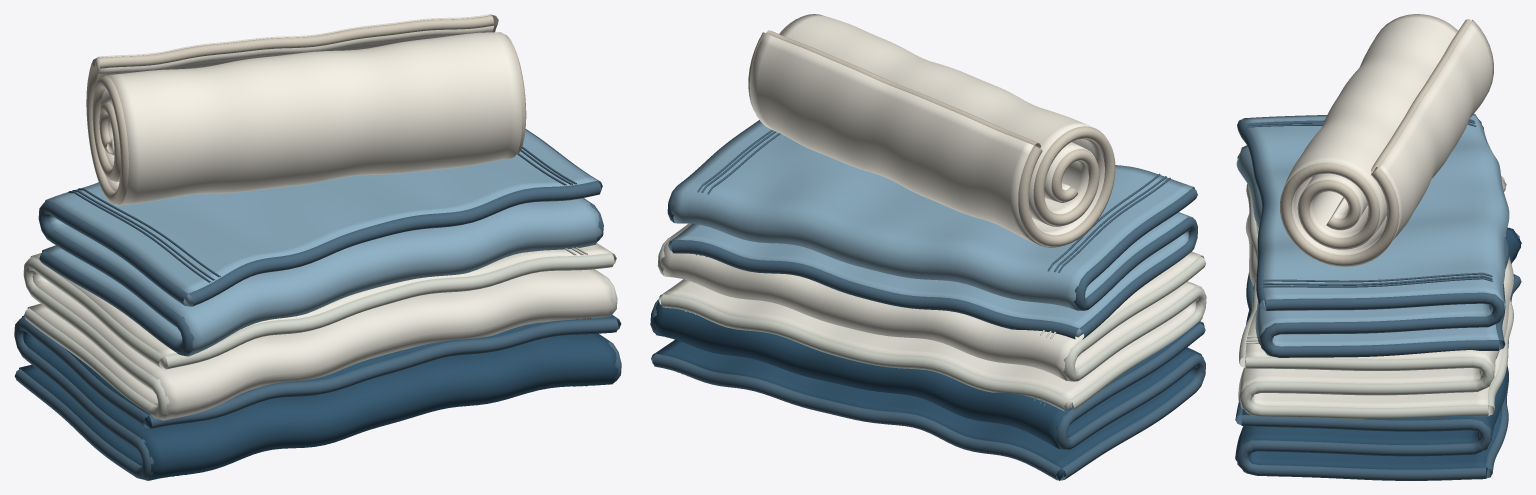
The model's file is towels.glb.
The picture shows the model from 3 angles, left to right: view 1: azimuth 30°, elevation 25°; view 2: azimuth 150°, elevation 25°; view 3: azimuth 270°, elevation 25°; orthographic projection. The views are drawn at different scales.
Parts seen in each view (by area): view 1: Ivory face towel, Blue-grey bath terry, Pearl bath terry, Midnight bath terry, Woven navy hem, Woven pearl hem, Cream spiral edge; view 2: Blue-grey bath terry, Ivory face towel, Pearl bath terry, Woven navy hem, Midnight bath terry, Woven pearl hem, Cream spiral edge; view 3: Blue-grey bath terry, Ivory face towel, Woven navy hem, Woven pearl hem, Pearl bath terry, Midnight bath terry, Cream spiral edge.
Boxes of the visible parts, box(x1,y1,x2,y2) form: Ivory face towel: box(94, 14, 522, 205); Blue-grey bath terry: box(44, 130, 601, 356); Pearl bath terry: box(29, 243, 614, 420); Midnight bath terry: box(20, 315, 618, 480); Woven navy hem: box(14, 129, 621, 480); Woven pearl hem: box(23, 243, 617, 419); Cream spiral edge: box(86, 14, 526, 204); Blue-grey bath terry: box(671, 121, 1193, 337); Ivory face towel: box(749, 14, 1108, 247); Pearl bath terry: box(660, 223, 1201, 409); Woven navy hem: box(650, 120, 1205, 480); Midnight bath terry: box(652, 302, 1201, 480); Woven pearl hem: box(657, 223, 1206, 411); Cream spiral edge: box(748, 17, 1115, 246); Blue-grey bath terry: box(1236, 114, 1509, 355); Ivory face towel: box(1280, 14, 1493, 266); Woven navy hem: box(1235, 119, 1521, 480); Woven pearl hem: box(1239, 175, 1513, 419); Pearl bath terry: box(1238, 177, 1513, 414); Midnight bath terry: box(1235, 227, 1521, 480); Cream spiral edge: box(1280, 19, 1473, 266).
Size of the model in its own units: 1.8 by 1.22 by 1.08.
